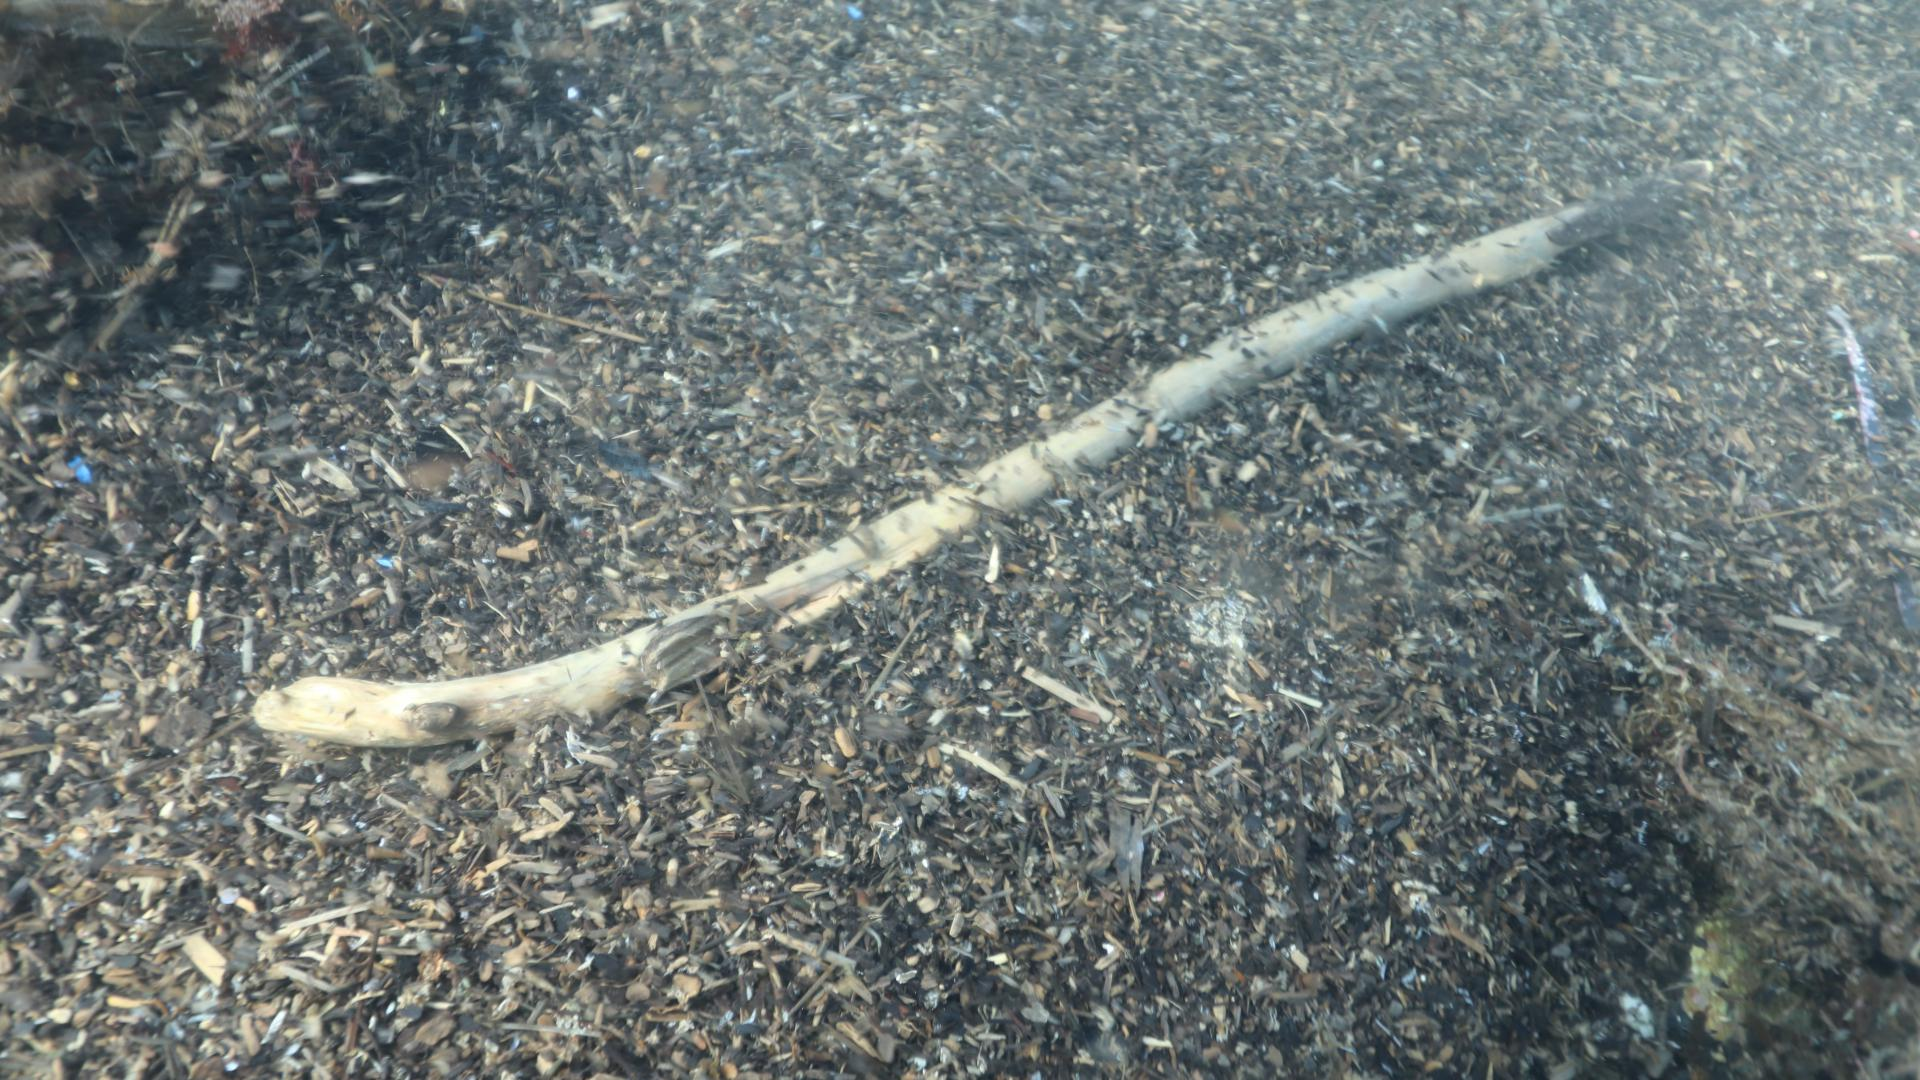wood: (252, 156, 1714, 742)
